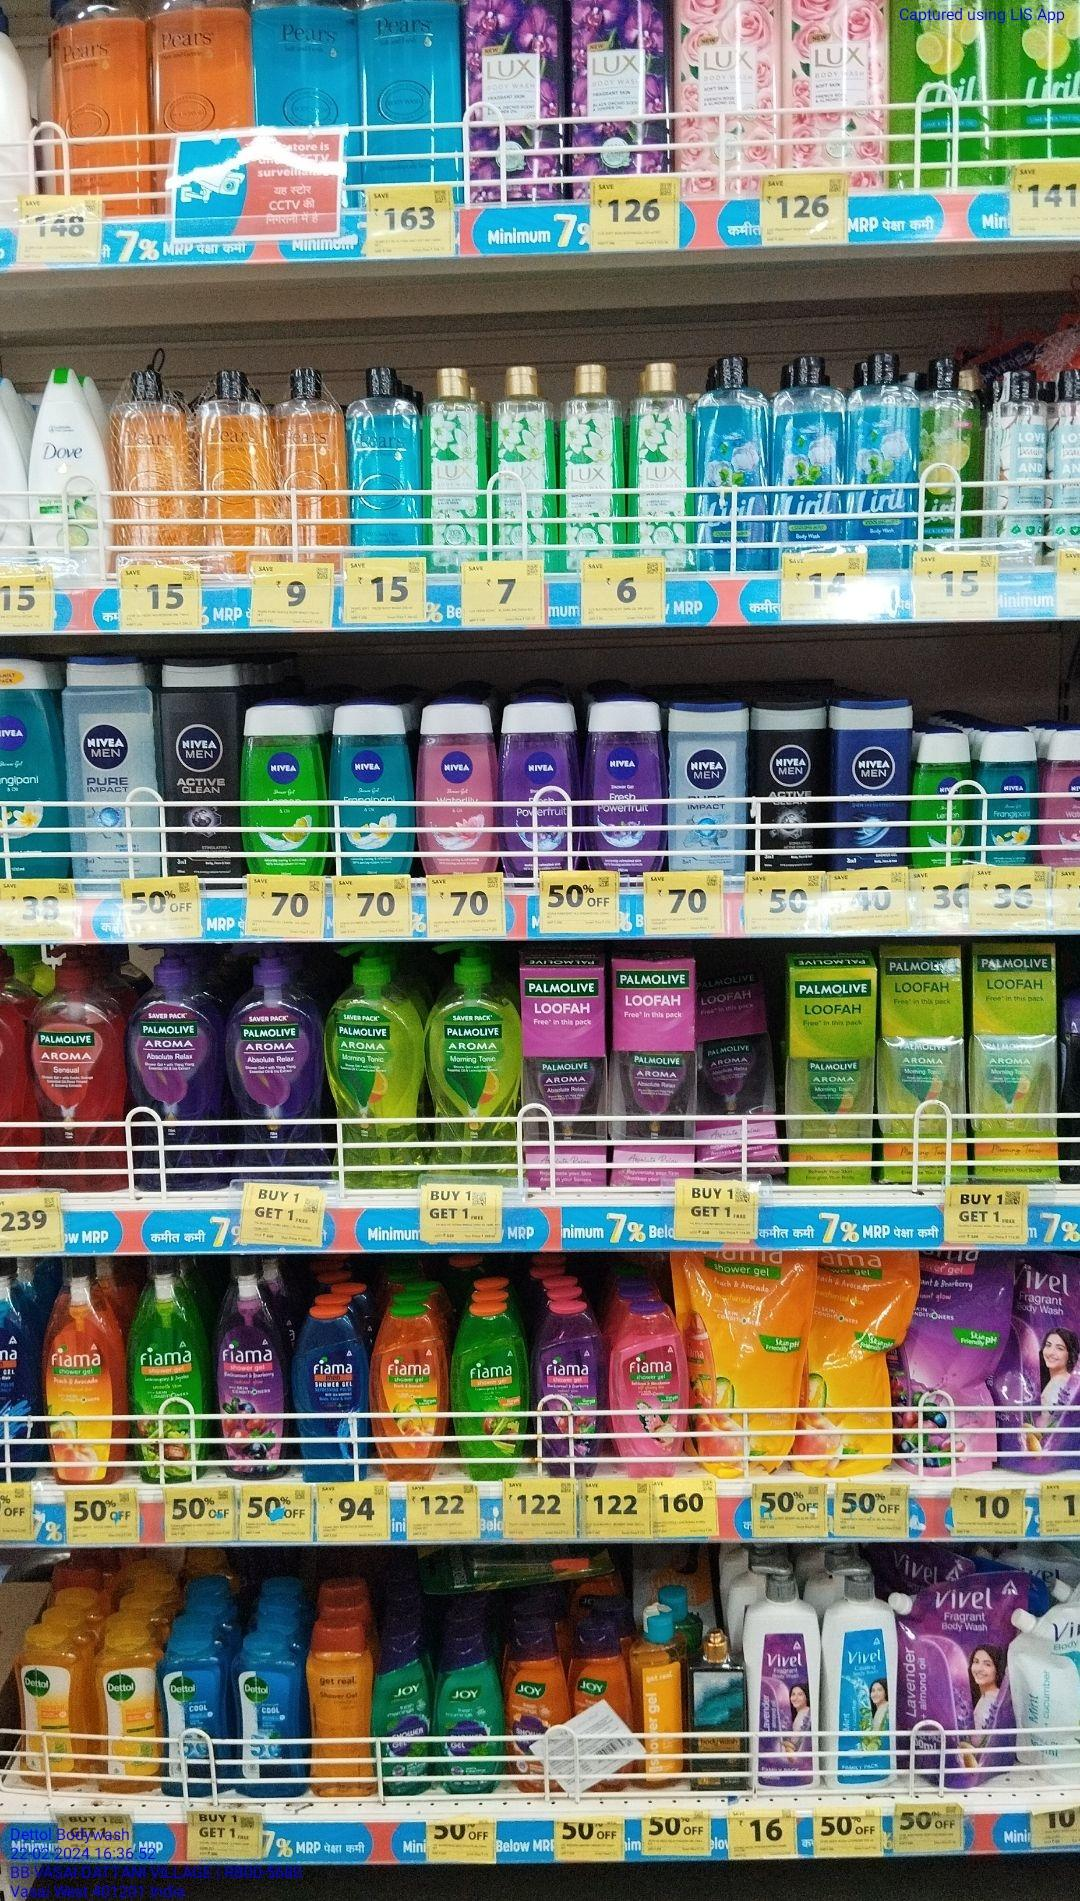Dettol_Bodywash_Cool: (232, 1639, 308, 1798), (165, 1624, 227, 1791)
Dettol_Bodywash_Refresh: (10, 1631, 87, 1791), (93, 1632, 163, 1798)
Fiama_Shower_Gel_Lemongrass_and_Jojoba_250ML: (456, 1299, 530, 1482)
Fiama_Shower_Gel_Patchouli_and_Macadamia_250ML: (609, 1302, 683, 1479)
Fiama_Shower_Gel_Peach_and_Avocado_250ML: (372, 1306, 445, 1482)
Get_Real_Shower_Gel_Moisturising_Glycerin_300ML: (306, 1620, 372, 1797)
Joy_Shower_Gel_Mint_and_Eucalyptus_250ML: (372, 1626, 435, 1799), (437, 1628, 499, 1795)
Lux_Body_Wash_Skin_Detox_Freesia_Scent_and_Alove_Vera_245ML: (419, 362, 492, 569), (494, 355, 556, 563), (632, 359, 695, 552), (567, 362, 619, 556)
Nivea_Shower_Gel_Frangipani_and_Oil_250ML: (0, 663, 63, 879), (332, 696, 405, 877)
Nivea_Shower_Gel_Fresh_Powerfruit_250ML: (494, 697, 581, 866), (592, 700, 666, 875)
Nivea_Shower_Gel_Lemon_and_Oil_250ML: (242, 702, 324, 877)
Nivea_Shower_Gel_Waterlily_and_Oil_250ML: (421, 702, 491, 876)
